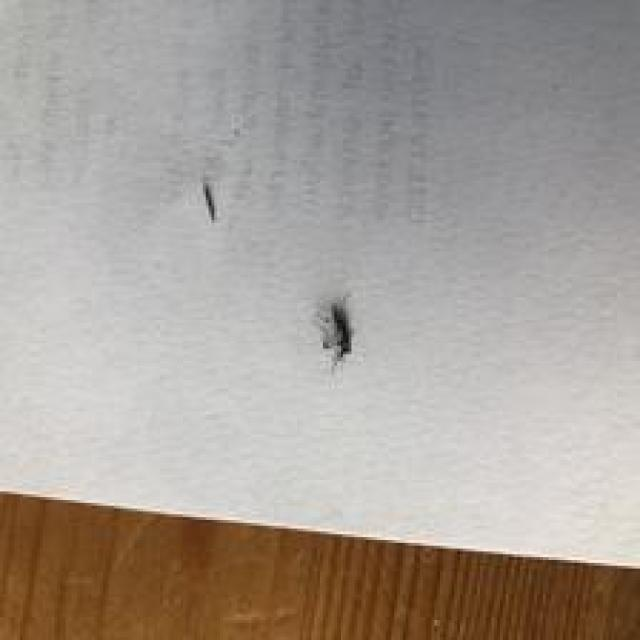Aedes albopictus: (316, 294, 356, 369)
